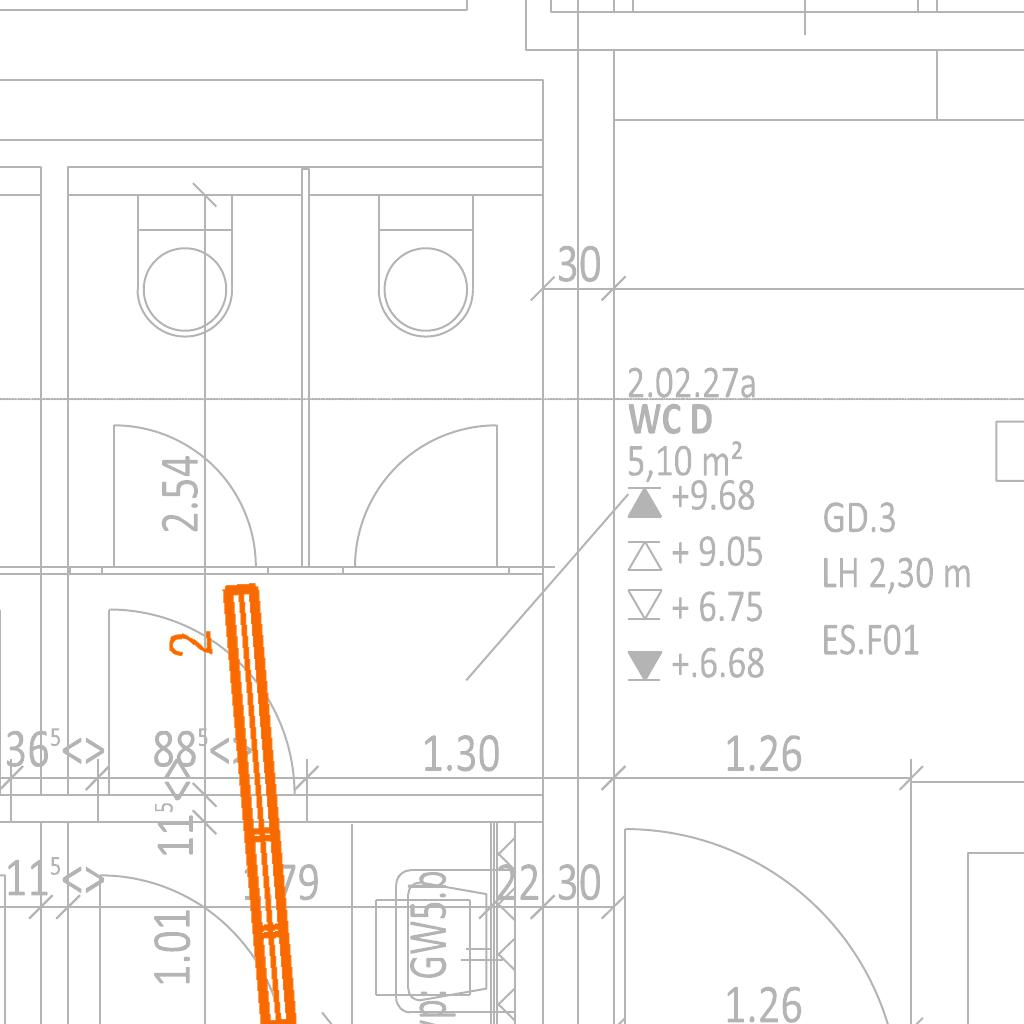Ambulanz_Pendelleuchte_LED: (158, 572, 338, 1024)
